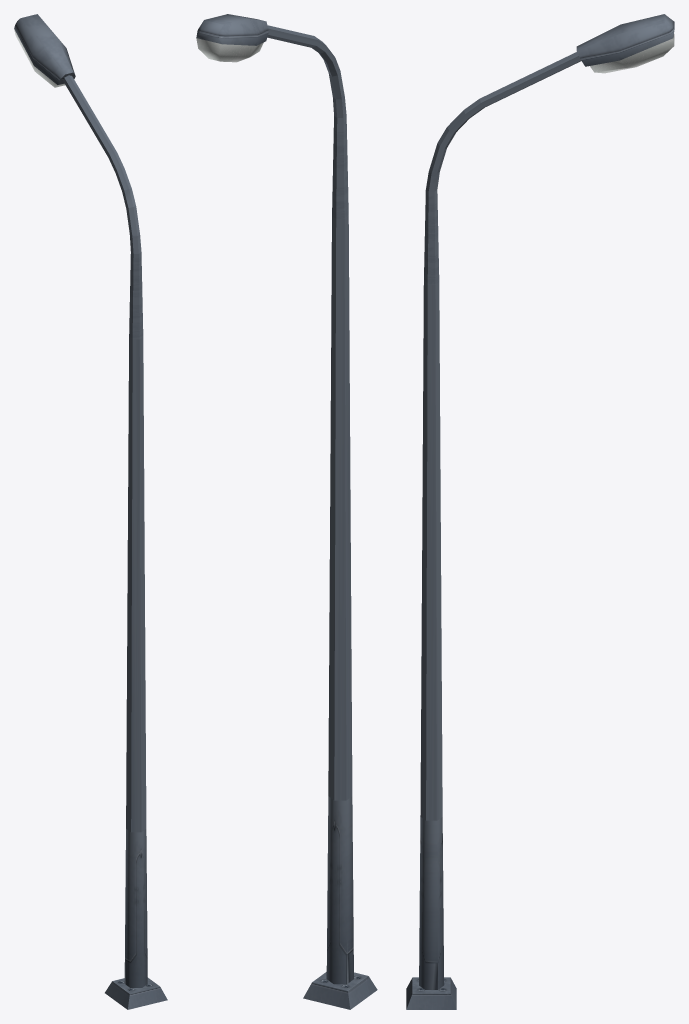
The picture shows the model from 3 angles, left to right: view 1: azimuth 30°, elevation 25°; view 2: azimuth 150°, elevation 25°; view 3: azimuth 270°, elevation 25°; orthographic projection. The views are drawn at different scales.
Parts seen in each view (by area): view 1: 沙岭-路灯; view 2: 沙岭-路灯; view 3: 沙岭-路灯.
Boxes of the visible parts, left/top/right/bottom form: 沙岭-路灯: left=14, top=14, right=167, bottom=1009; 沙岭-路灯: left=196, top=14, right=377, bottom=1009; 沙岭-路灯: left=406, top=14, right=674, bottom=1009.
Bounding box in the file's own units: 0.00827 × 0.1775 × 0.044.
2 materials, 2 textured.
